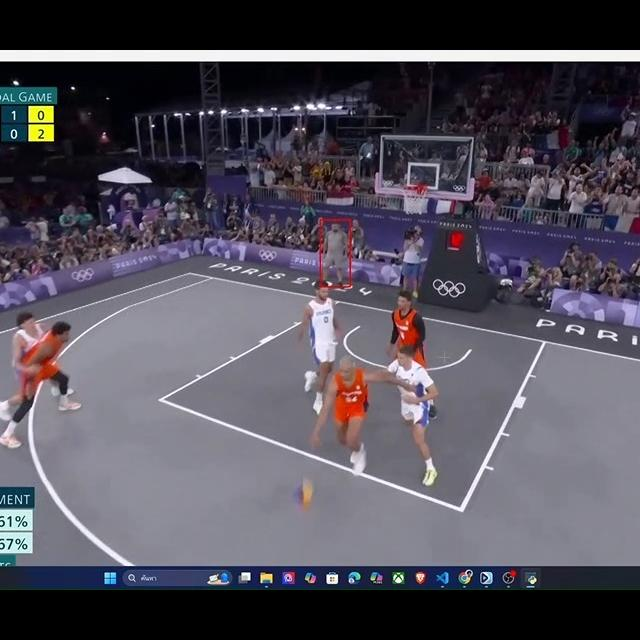basketball: (294, 480, 315, 508)
hoop: (401, 181, 429, 216)
